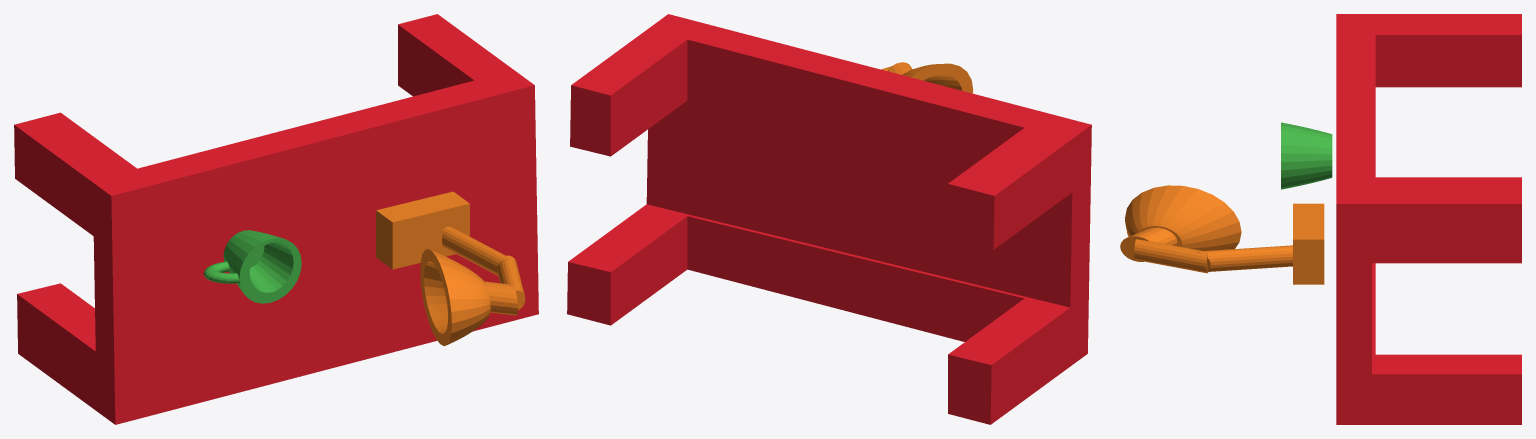
Rendered from tinker.obj.
The picture shows the model from 3 angles, left to right: view 1: azimuth 30°, elevation 25°; view 2: azimuth 150°, elevation 25°; view 3: azimuth 270°, elevation 25°; orthographic projection. The views are drawn at different scales.
Visible parts, largest first — view 1: group_0_15277357, group_0_16089887, group_0_4634441; view 2: group_0_15277357, group_0_16089887; view 3: group_0_15277357, group_0_16089887, group_0_4634441.
Part boxes in pixels (x1,y1,x2,y2): group_0_15277357: [14, 14, 538, 424]; group_0_16089887: [376, 191, 525, 345]; group_0_4634441: [203, 230, 301, 303]; group_0_15277357: [567, 14, 1091, 424]; group_0_16089887: [881, 62, 973, 93]; group_0_15277357: [1336, 14, 1521, 424]; group_0_16089887: [1120, 185, 1324, 284]; group_0_4634441: [1281, 122, 1332, 189].
Size of the model in its own units: 119 by 63.25 by 102.
